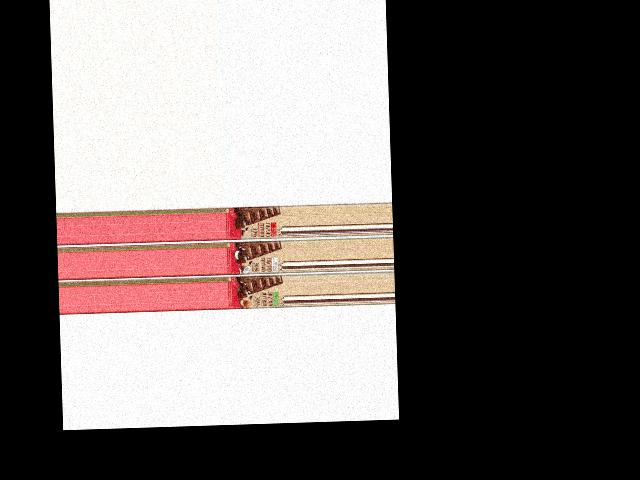chocolate: (227, 275, 284, 310)
